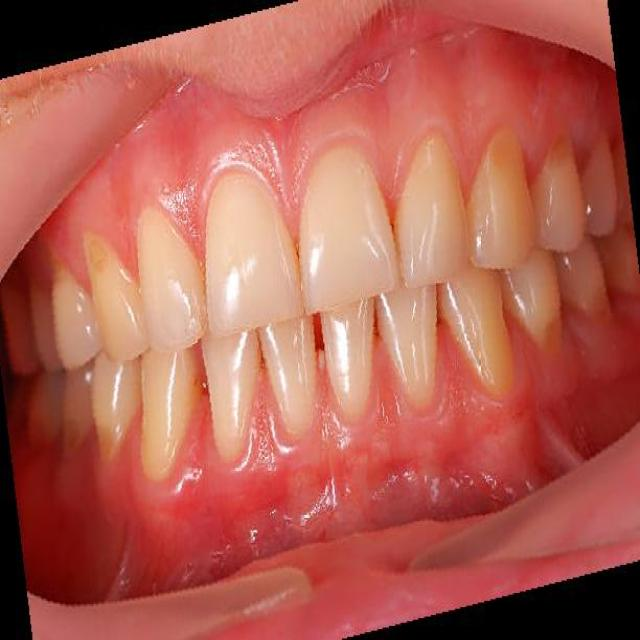caries: (74, 219, 120, 283), (542, 122, 584, 182), (90, 413, 128, 474)
